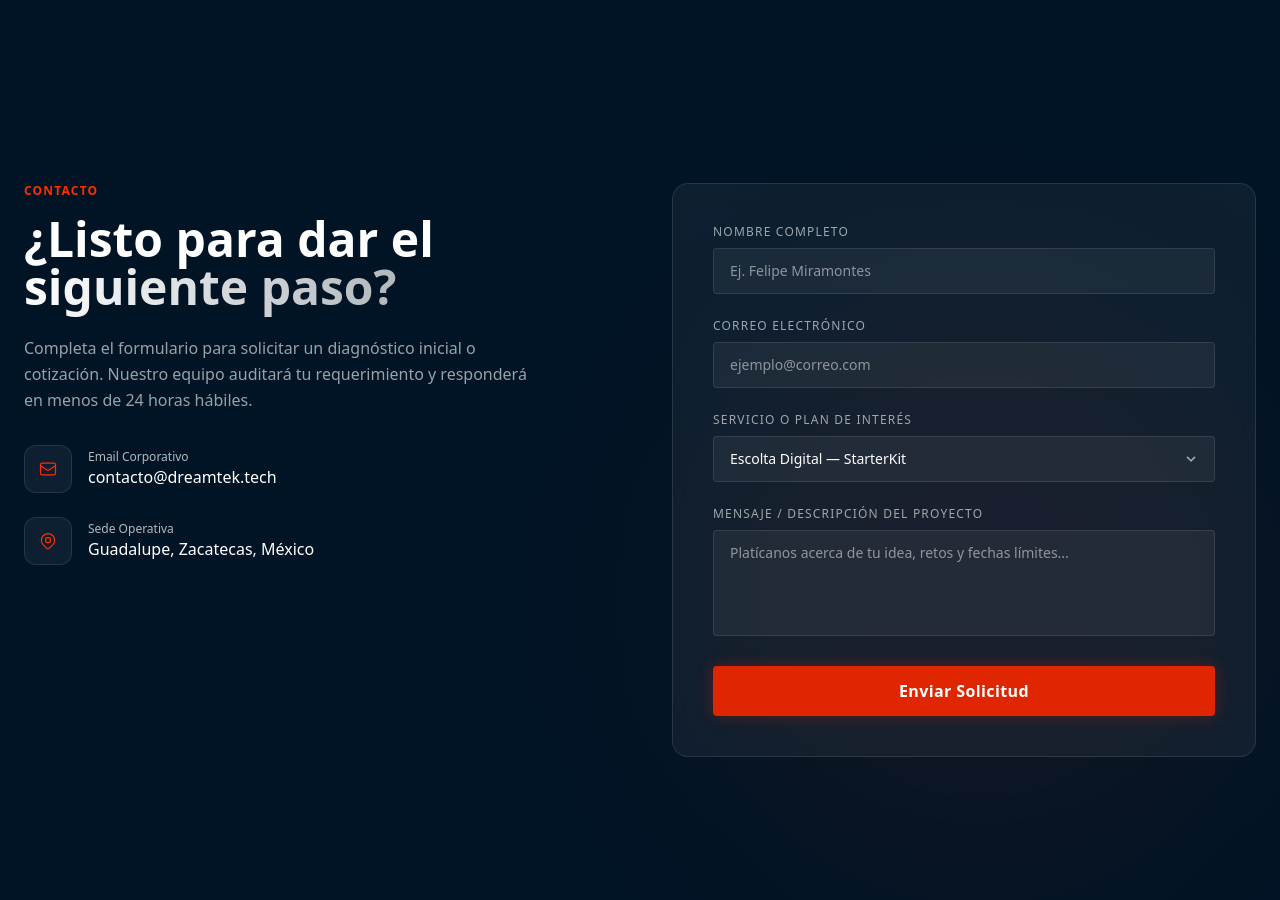
Contact Component › debe procesar el flujo completo exitoso de 2FA y envío de formulario
This screenshot has width=1280, height=900.
Type "Felipe" into the field with placeholder "Ej. Felipe Miramontes" at {"x": 964, "y": 271}, box [713,248,1215,294]
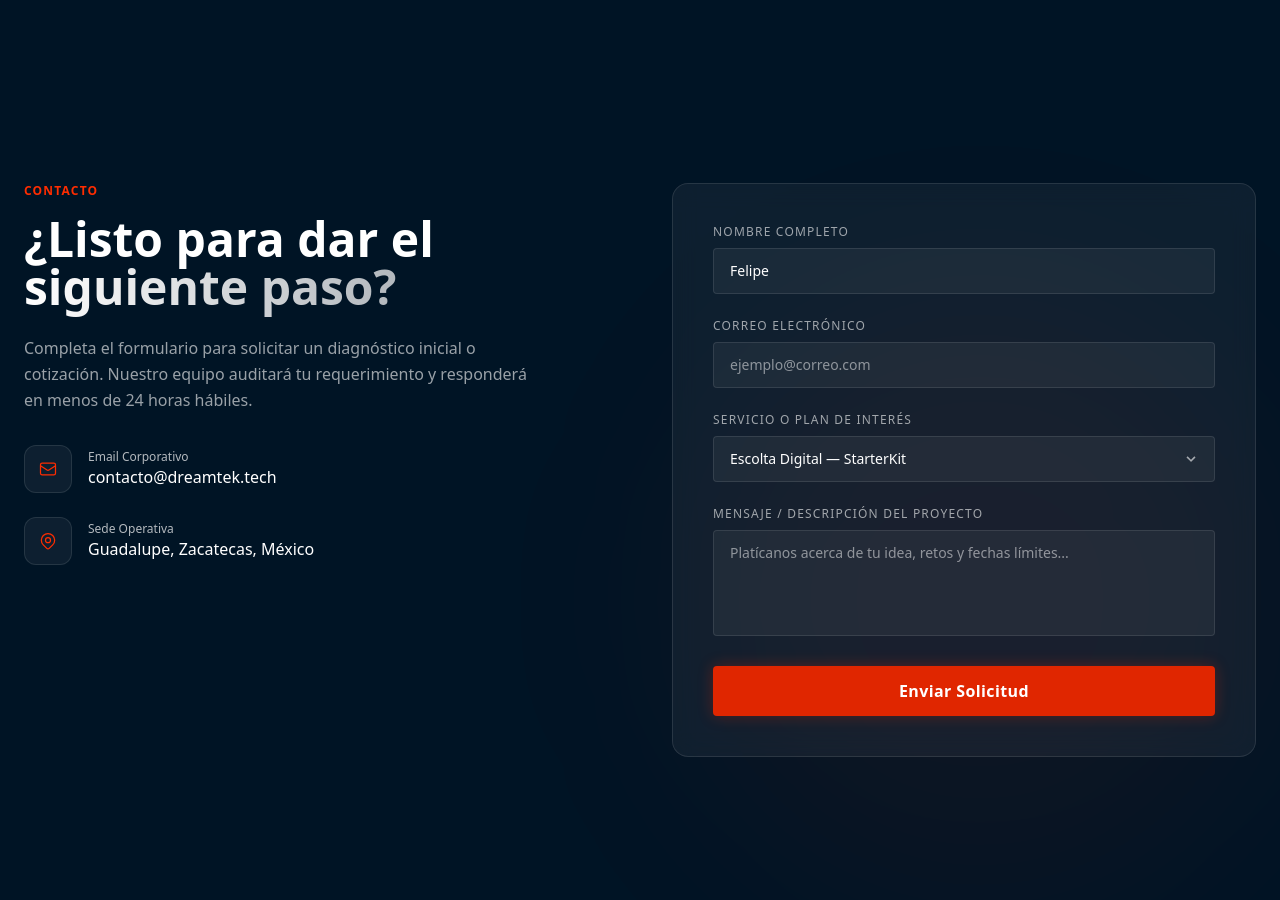
Type "felipe@test.com" into the field with placeholder "ejemplo@correo.com" at {"x": 964, "y": 365}, box [713,342,1215,388]
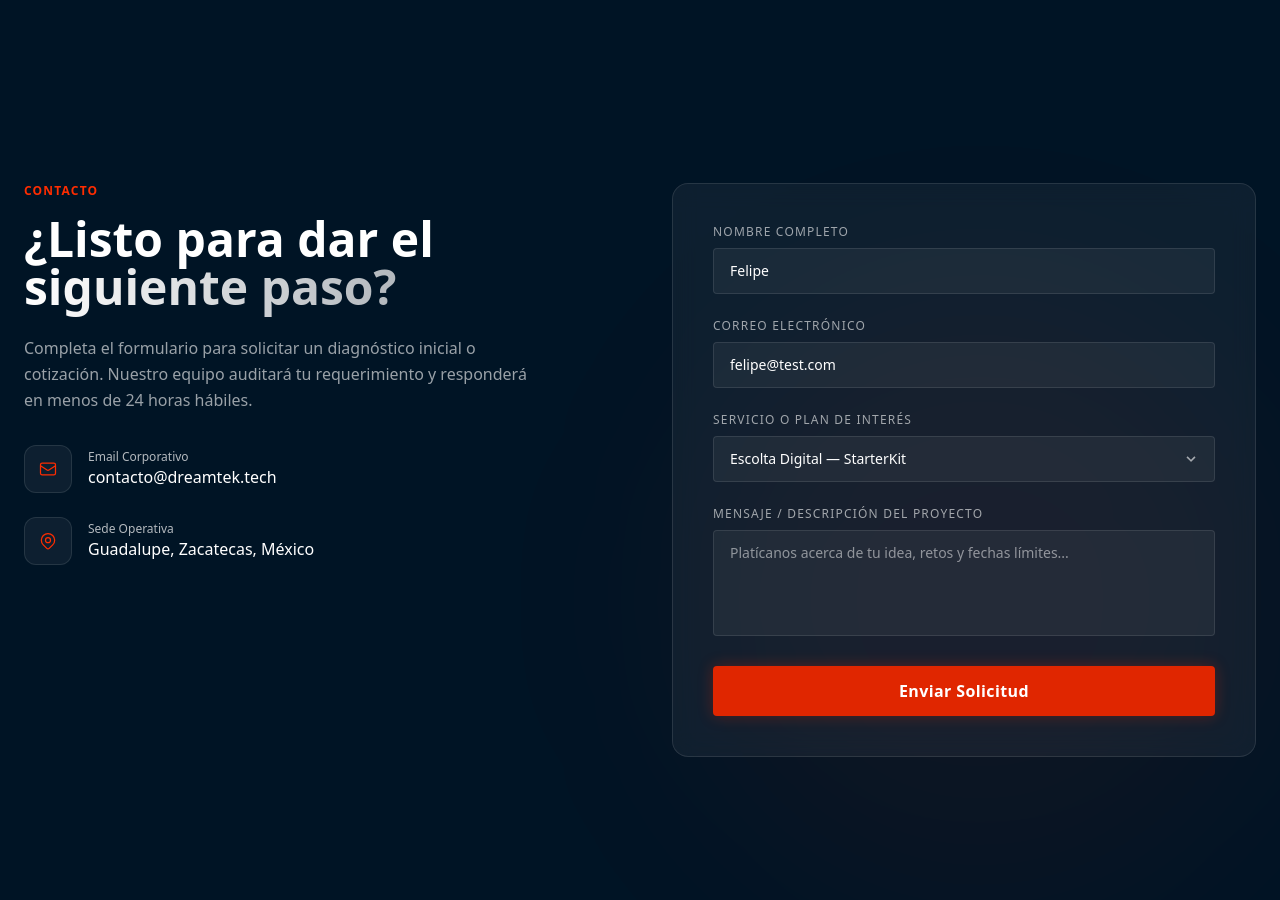
Type "Hola" into the text box with placeholder "Platícanos acerca de tu idea, retos y fechas límites..." at {"x": 964, "y": 583}, box [713,530,1215,636]
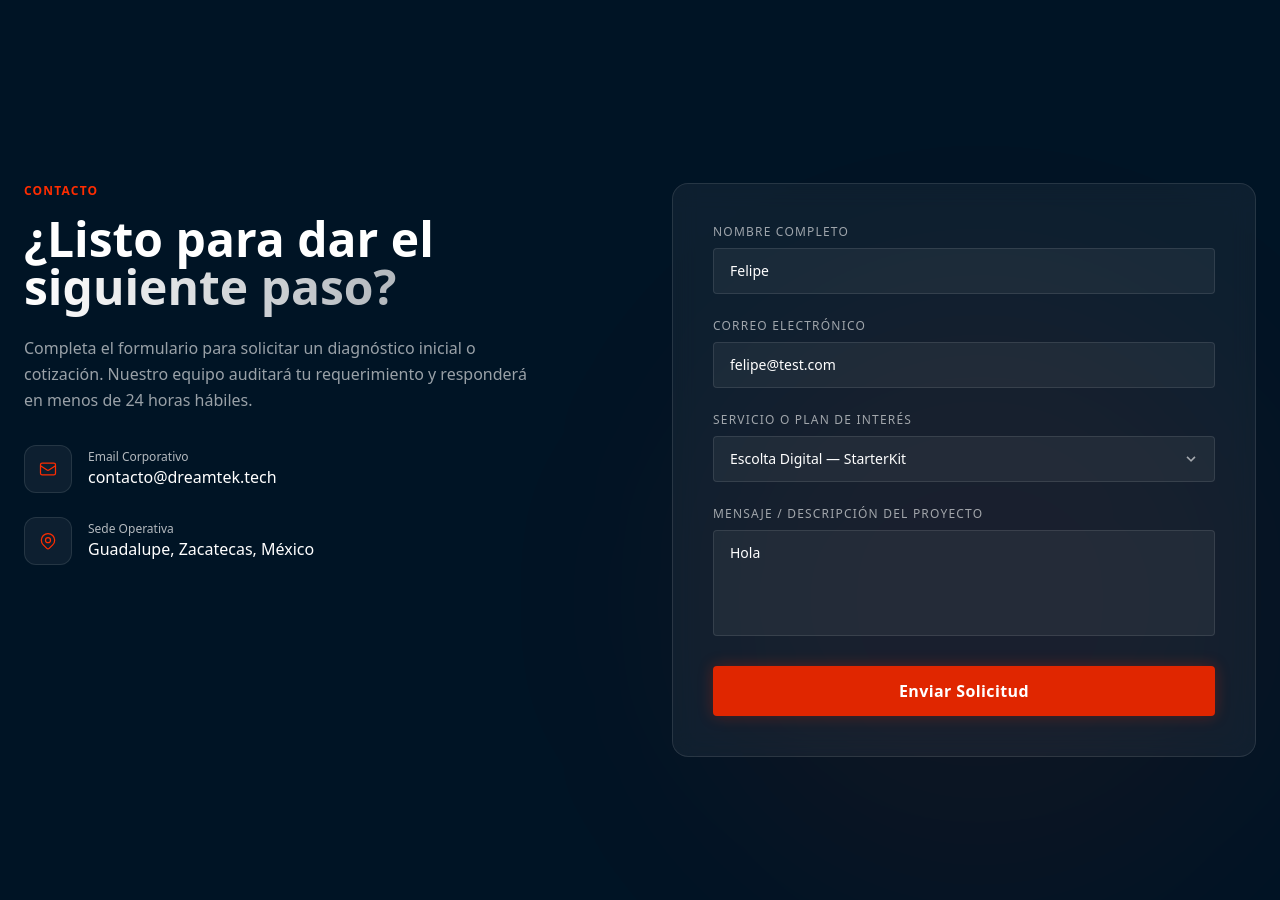
Click the button "Enviar Solicitud" at {"x": 964, "y": 691}, box [713,666,1215,716]
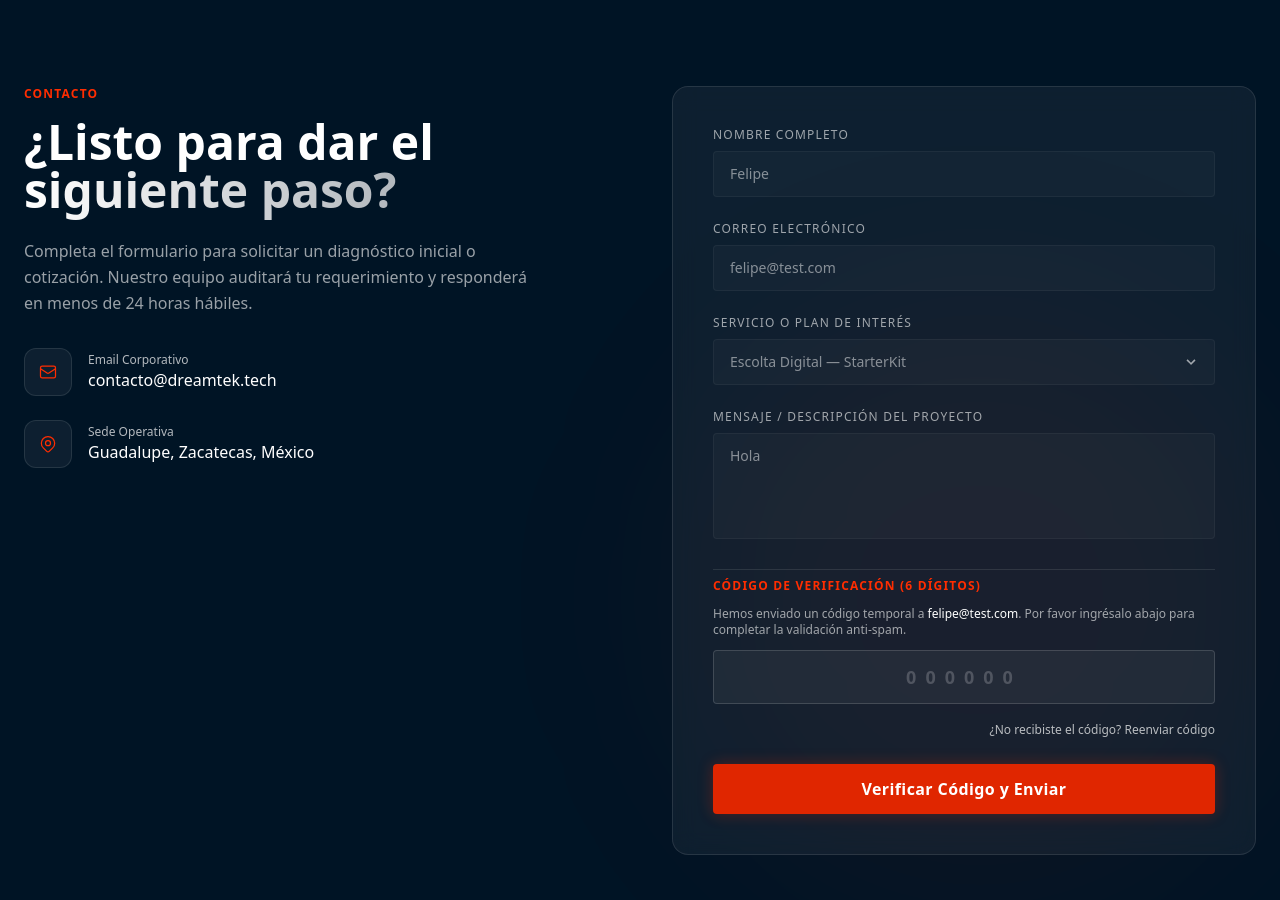
Check: the text "Código de Verificación (6 dígitos)" is shown, box [713,576,981,594]
Type "123456" into the field with placeholder "000000" at {"x": 964, "y": 676}, box [713,650,1215,704]
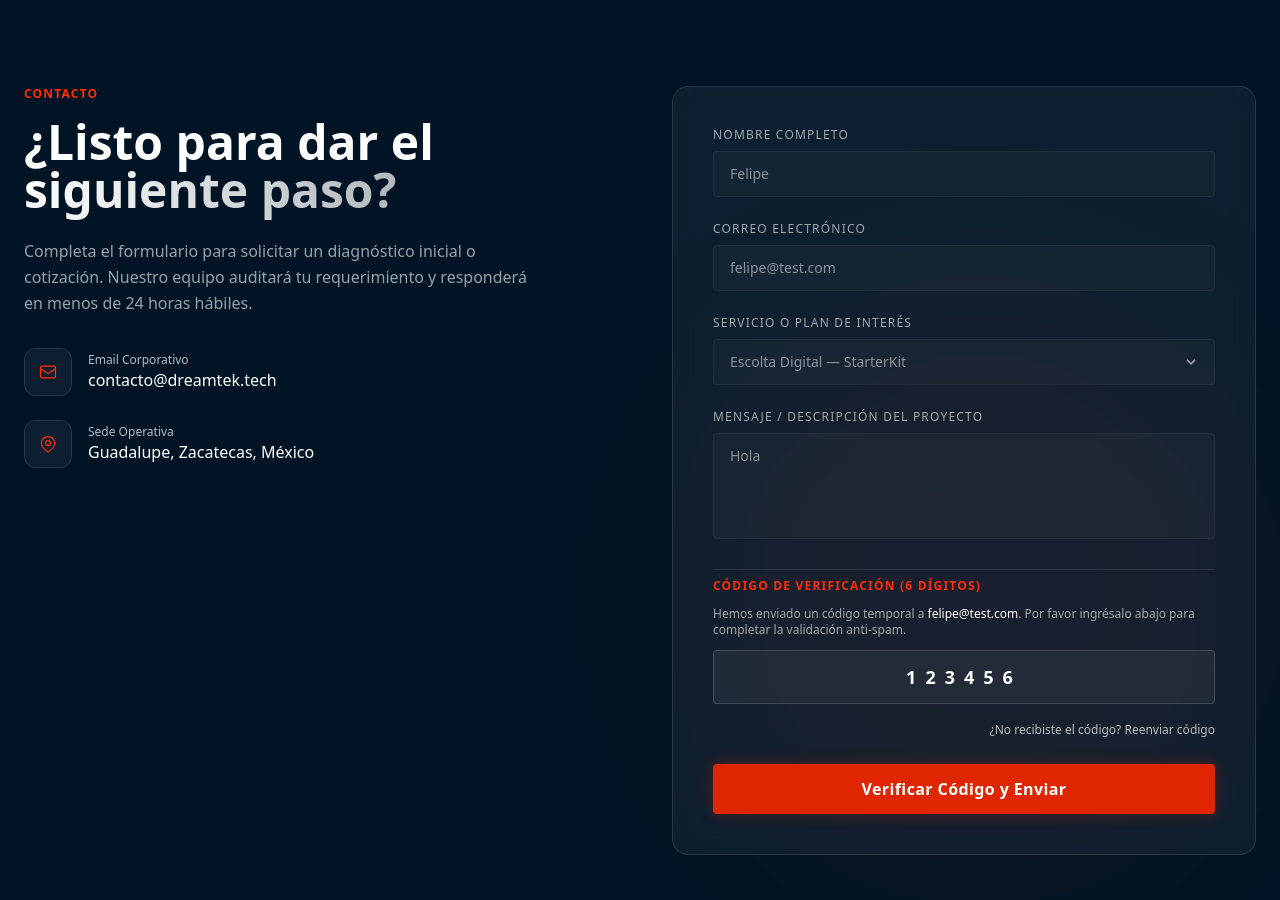
Click the button "Verificar Código y Enviar" at {"x": 964, "y": 788}, box [713,764,1215,814]
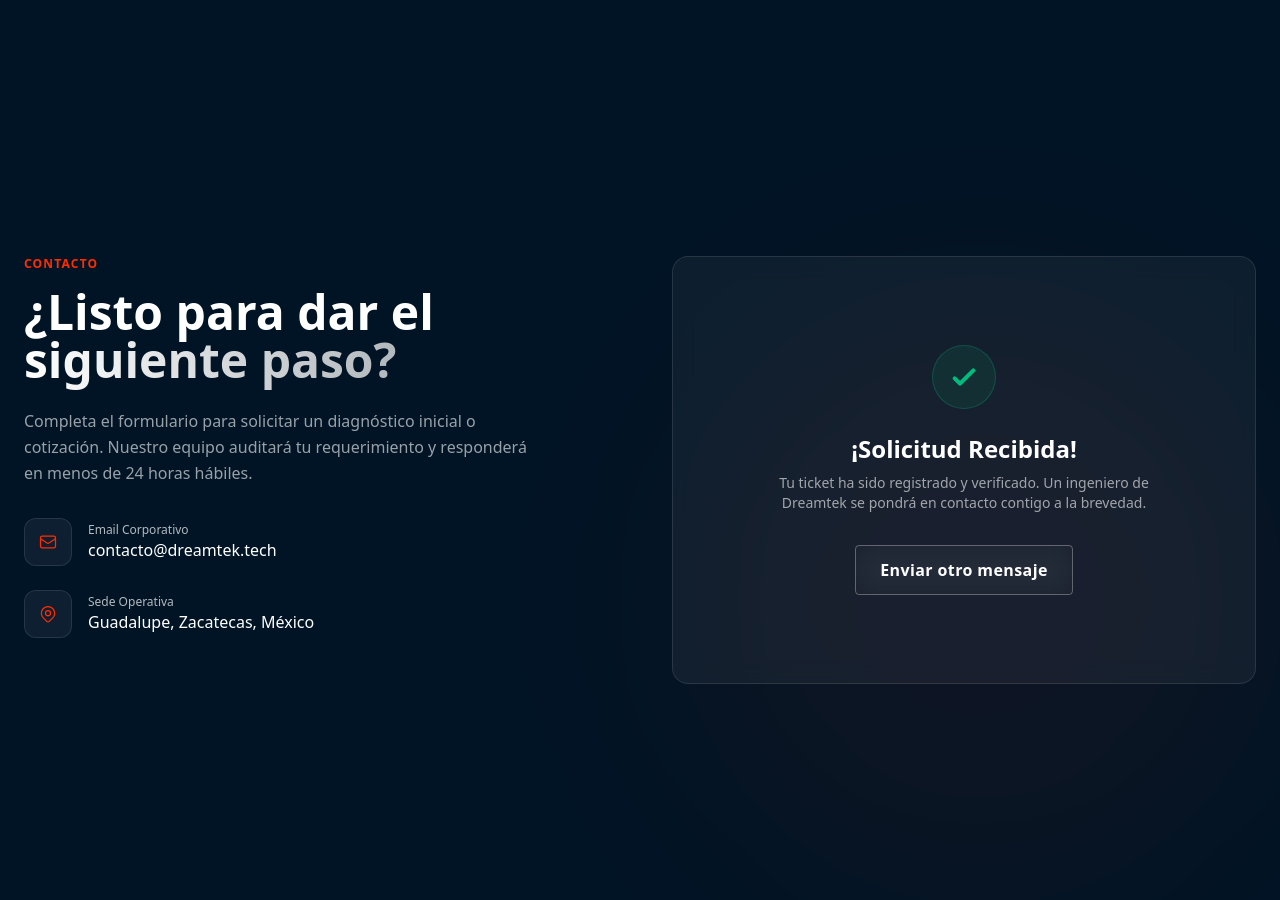
Check: the heading "¡Solicitud Recibida!" is shown, box [851,433,1077,465]
